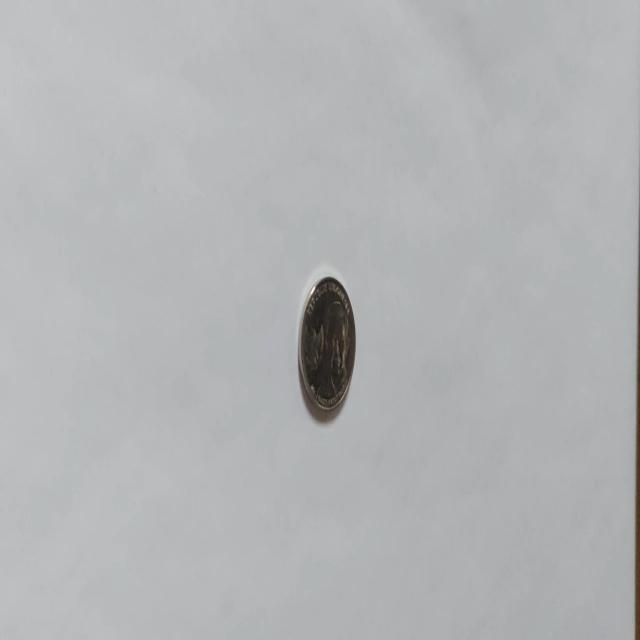seribu rupiah koin: (296, 272, 356, 412)
